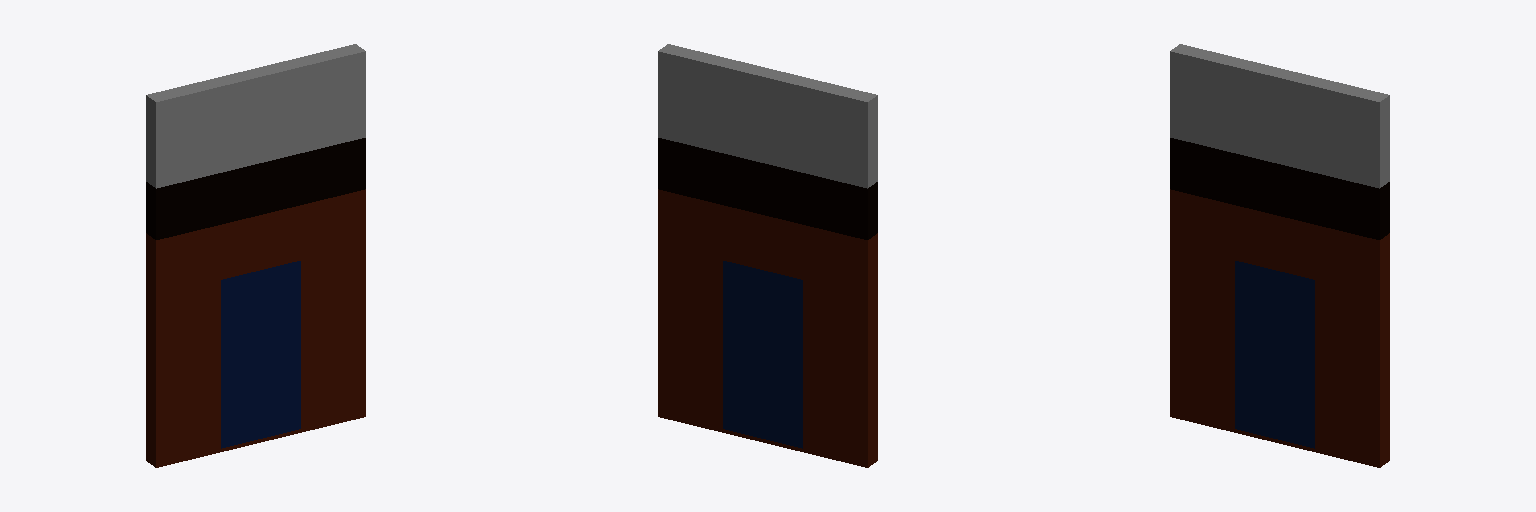
Rendered from door_test.obj.
The picture shows the model from 3 angles: view 1: azimuth 30°, elevation 25°; view 2: azimuth 150°, elevation 25°; view 3: azimuth 330°, elevation 25°; orthographic projection.
Visible parts, largest first — view 1: pCube35; view 2: pCube35; view 3: pCube35.
Boxes of the visible parts, <box> form: pCube35: <box>146,44,365,467</box>; pCube35: <box>658,44,877,467</box>; pCube35: <box>1170,44,1389,467</box>.
Size of the model in its own units: 3 by 5 by 0.25.